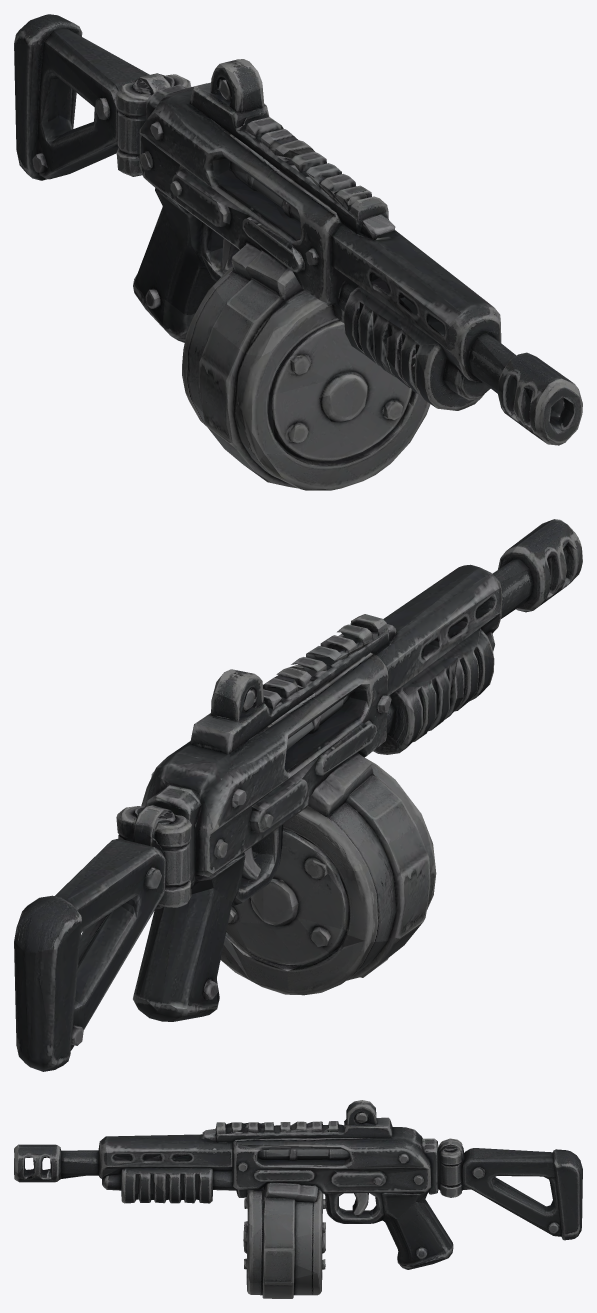
The model's file is gun_sweeper.glb.
The picture shows the model from 3 angles, top to bottom: view 1: azimuth 30°, elevation 25°; view 2: azimuth 150°, elevation 25°; view 3: azimuth 270°, elevation 25°; orthographic projection. The views are drawn at different scales.
Size of the model in its own units: 0.2906 by 0.4827 by 1.31.
Materials: 1 (1 with a texture image).
